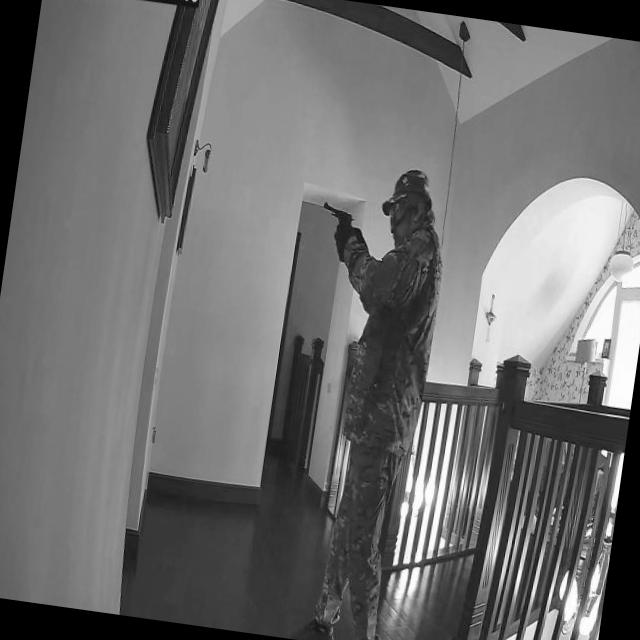gun: (318, 195, 358, 239)
person with a gun: (261, 153, 456, 640)
